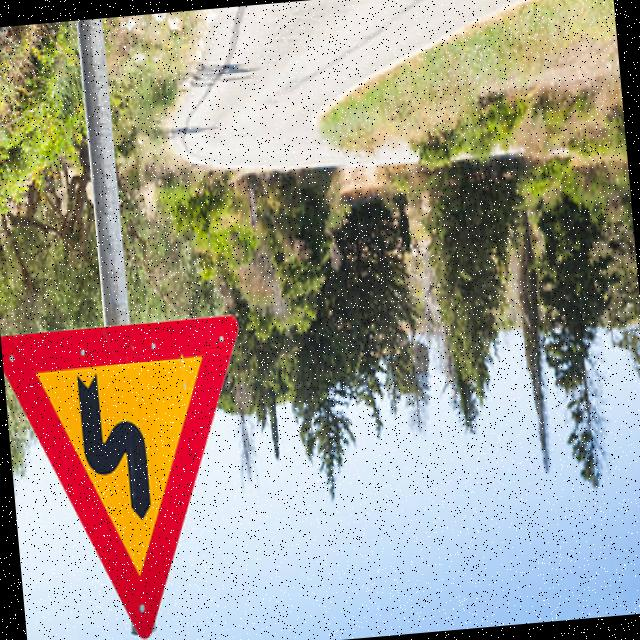left_sharp_curve: (38, 328, 218, 587)
